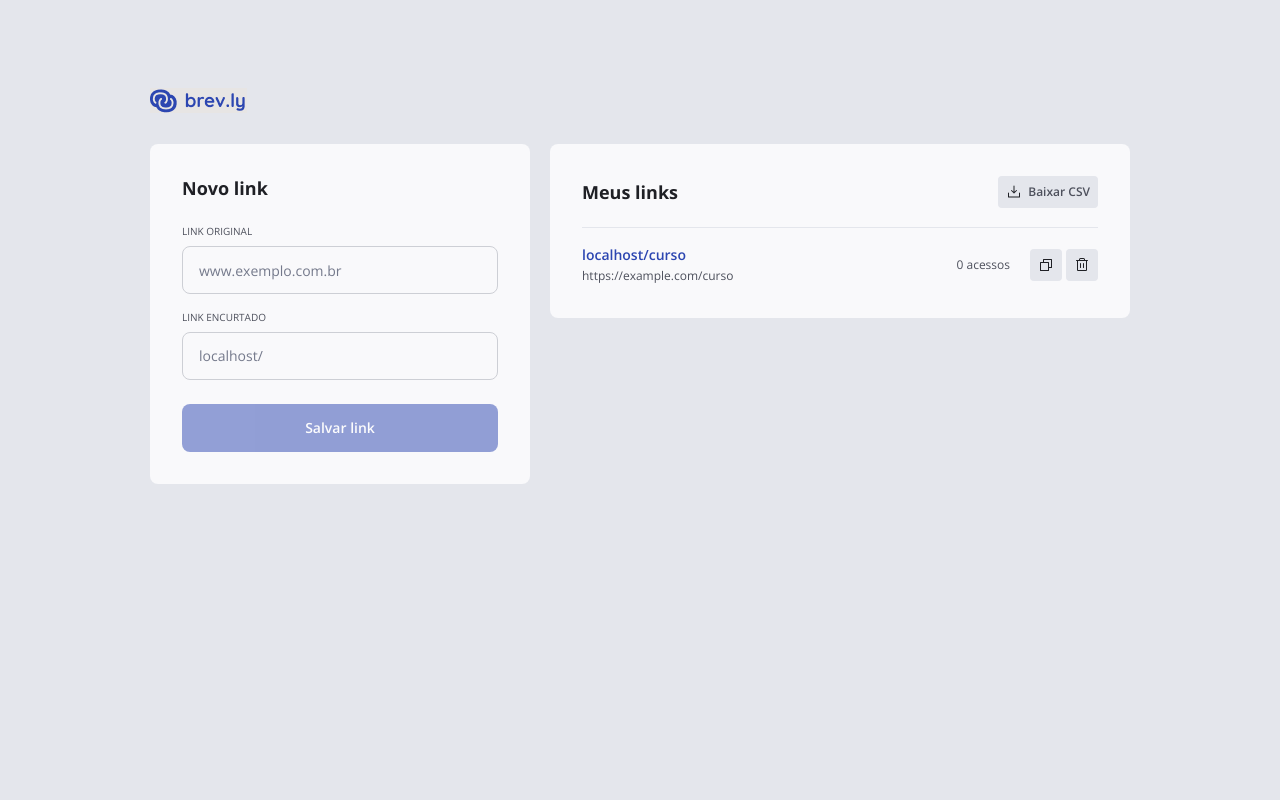
Test case: Página inicial › copia o endereço completo do link
The image size is (1280, 800).
Click the button named "Copiar link curso" at point(1046, 265), box 1030,249 -> 1062,281
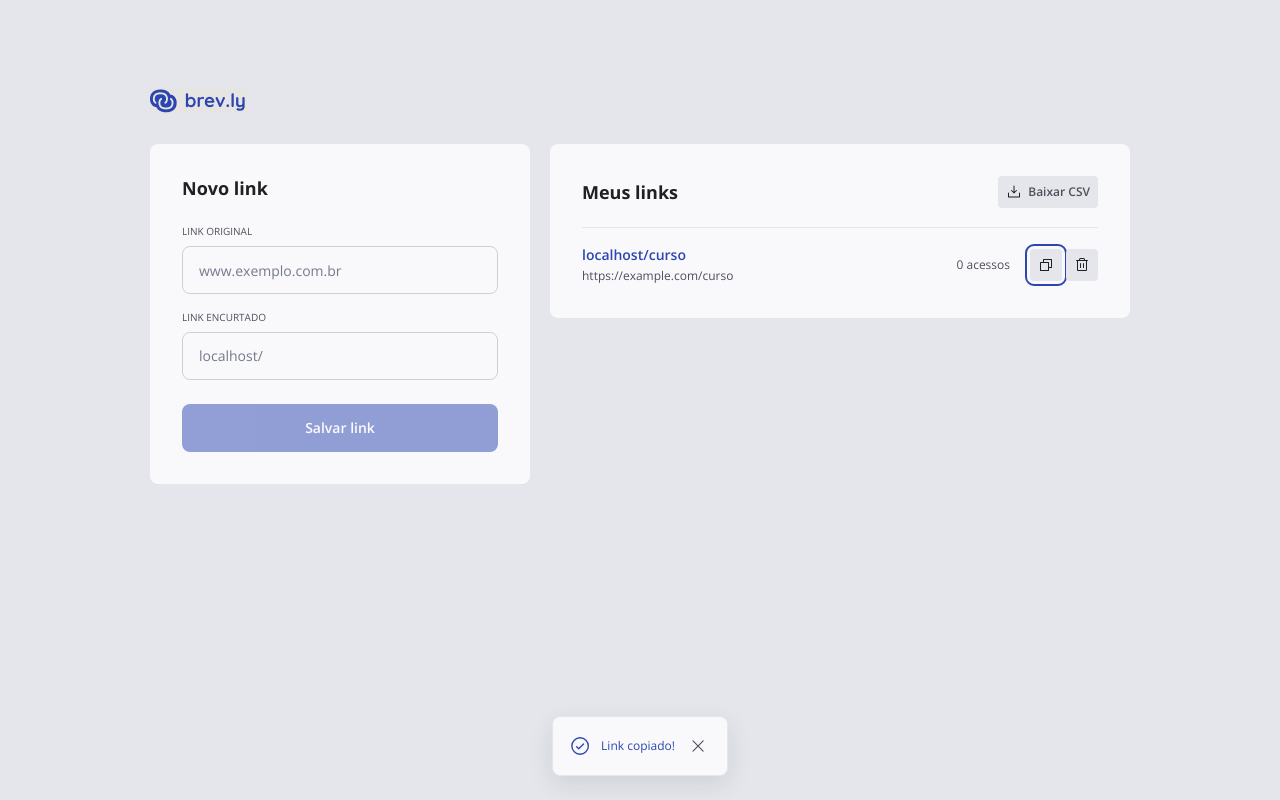
Result: the text "Link copiado!" is shown at 601,737 -> 675,755
